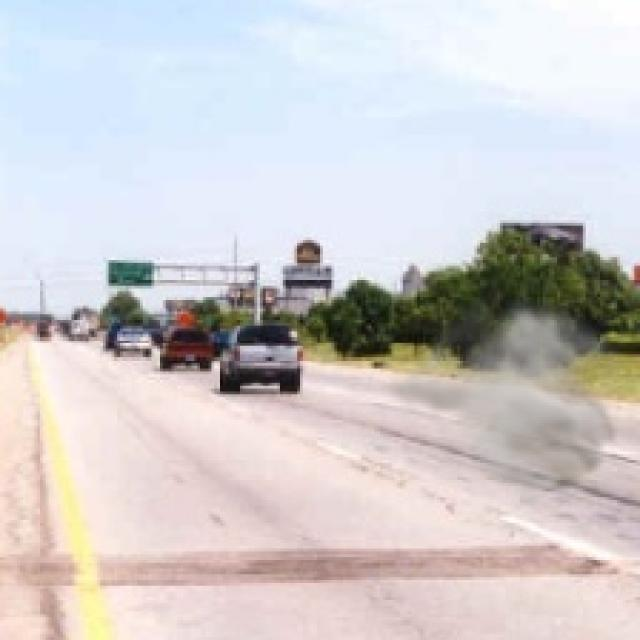smoke: (377, 294, 637, 514)
